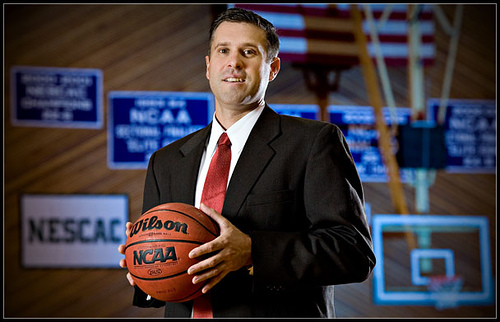basketball: (126, 202, 226, 302)
